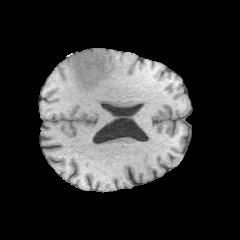glioma: (74, 49, 109, 93)
